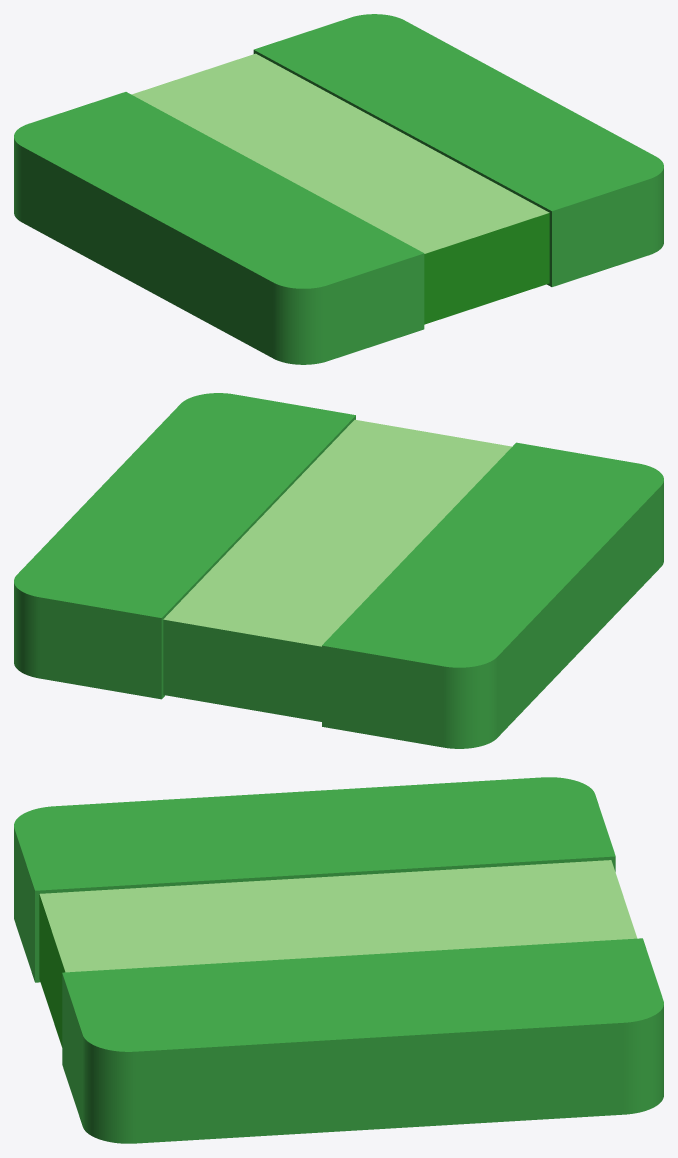
File: island2.glb
The picture shows the model from 3 angles, top to bottom: view 1: azimuth 30°, elevation 25°; view 2: azimuth 150°, elevation 25°; view 3: azimuth 270°, elevation 25°; orthographic projection. The views are drawn at different scales.
Parts seen in each view (by area): view 1: Cube; view 2: Cube; view 3: Cube.
Part boxes in pixels (bbox=[...]): Cube: bbox=[14, 14, 663, 364]; Cube: bbox=[14, 393, 663, 748]; Cube: bbox=[14, 777, 663, 1143].
Bounding box in the file's own units: 7.6 × 1.19 × 7.6.
